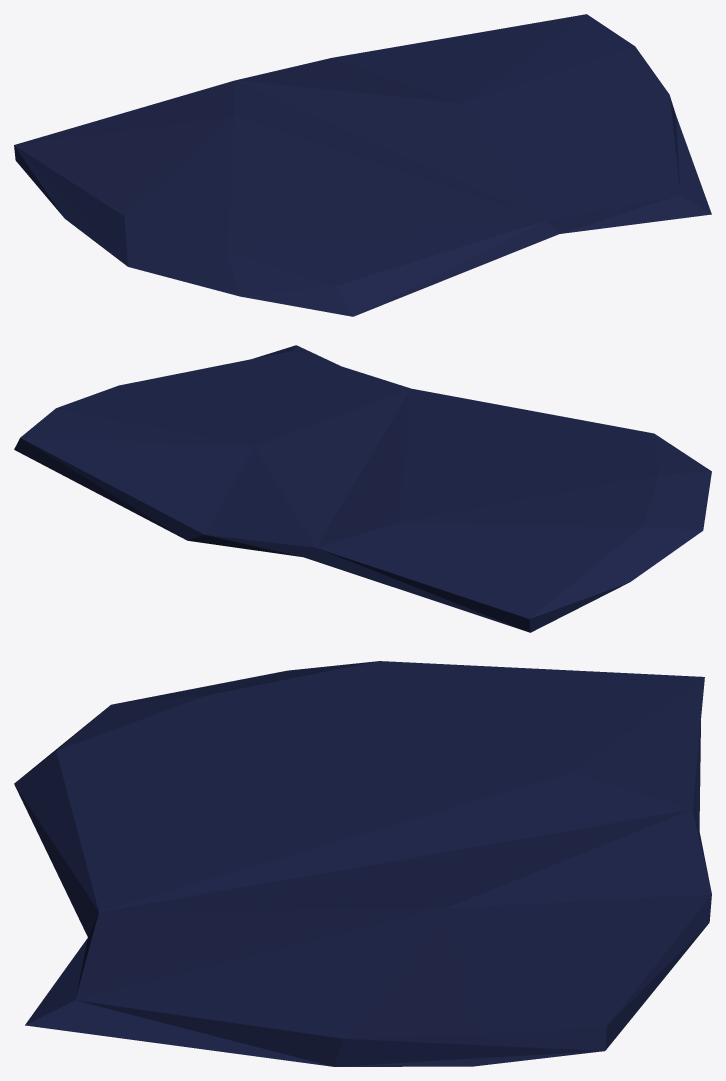
Rendered from Cave_stone_23.glb.
3 views of the same model, one above another, from view 1: azimuth 30°, elevation 25°; view 2: azimuth 150°, elevation 25°; view 3: azimuth 270°, elevation 25° (orthographic). The views are drawn at different scales.
Visible parts, largest first — view 1: Cave_stone_23; view 2: Cave_stone_23; view 3: Cave_stone_23.
Boxes of the visible parts, x1,y1,x2,y2 form: Cave_stone_23: (14,14,711,316); Cave_stone_23: (14,345,711,632); Cave_stone_23: (14,661,711,1066).
Bounding box in the file's own units: 4.45 × 0.3477 × 3.18.
